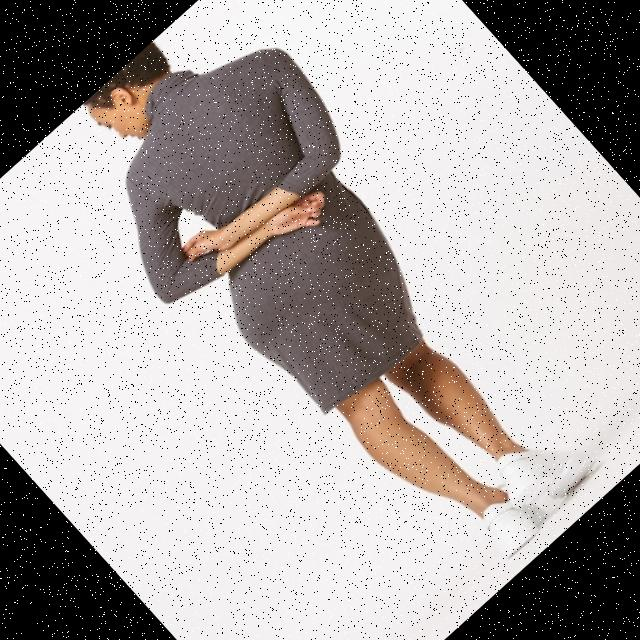Person: (28, 0, 637, 616)
